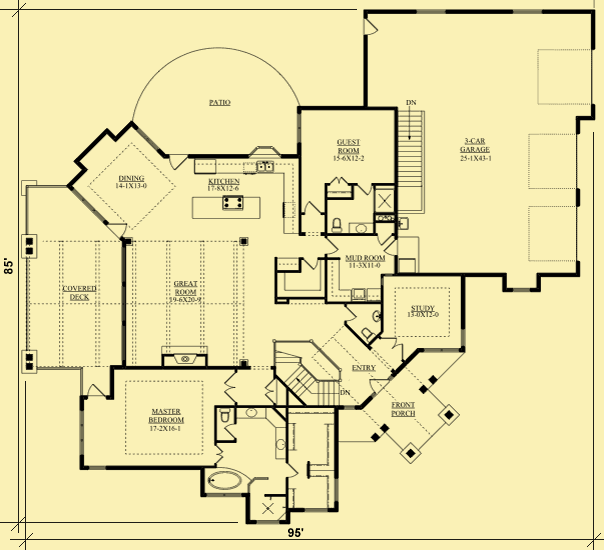door: (377, 331, 405, 364), (219, 368, 239, 407), (364, 375, 396, 394), (360, 13, 380, 42), (319, 234, 342, 259), (166, 151, 189, 175), (102, 219, 131, 238), (84, 380, 109, 400), (341, 302, 360, 326), (263, 374, 277, 404), (209, 441, 226, 465), (301, 252, 321, 271), (282, 459, 300, 480), (325, 172, 351, 186), (302, 199, 321, 218), (353, 182, 373, 196)
kitchen bar: (184, 190, 265, 222)
large sink: (356, 326, 378, 343), (216, 405, 233, 425), (328, 216, 345, 236)
small sink: (234, 401, 271, 421), (273, 426, 286, 464), (346, 220, 374, 234), (367, 306, 383, 326)
stairs: (273, 338, 351, 405), (392, 96, 430, 218)
tub: (202, 465, 247, 494)
twin sink: (252, 158, 278, 175)
windows: (412, 5, 449, 19), (509, 5, 548, 17), (78, 407, 87, 459), (420, 344, 459, 356), (298, 503, 331, 515), (253, 517, 284, 529), (509, 284, 531, 295)
